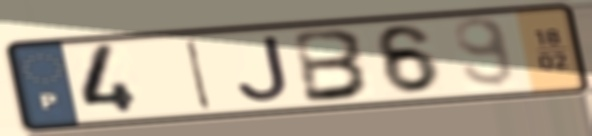4: (76, 41, 148, 120)
6: (370, 22, 445, 98)
9: (452, 15, 520, 95)
B: (291, 27, 376, 106)
I: (183, 37, 215, 113)
J: (234, 33, 292, 105)
